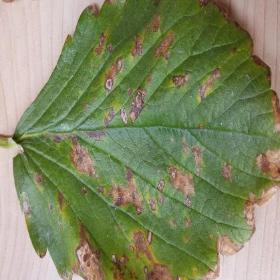Angular Leafspot: (12, 0, 279, 279)
